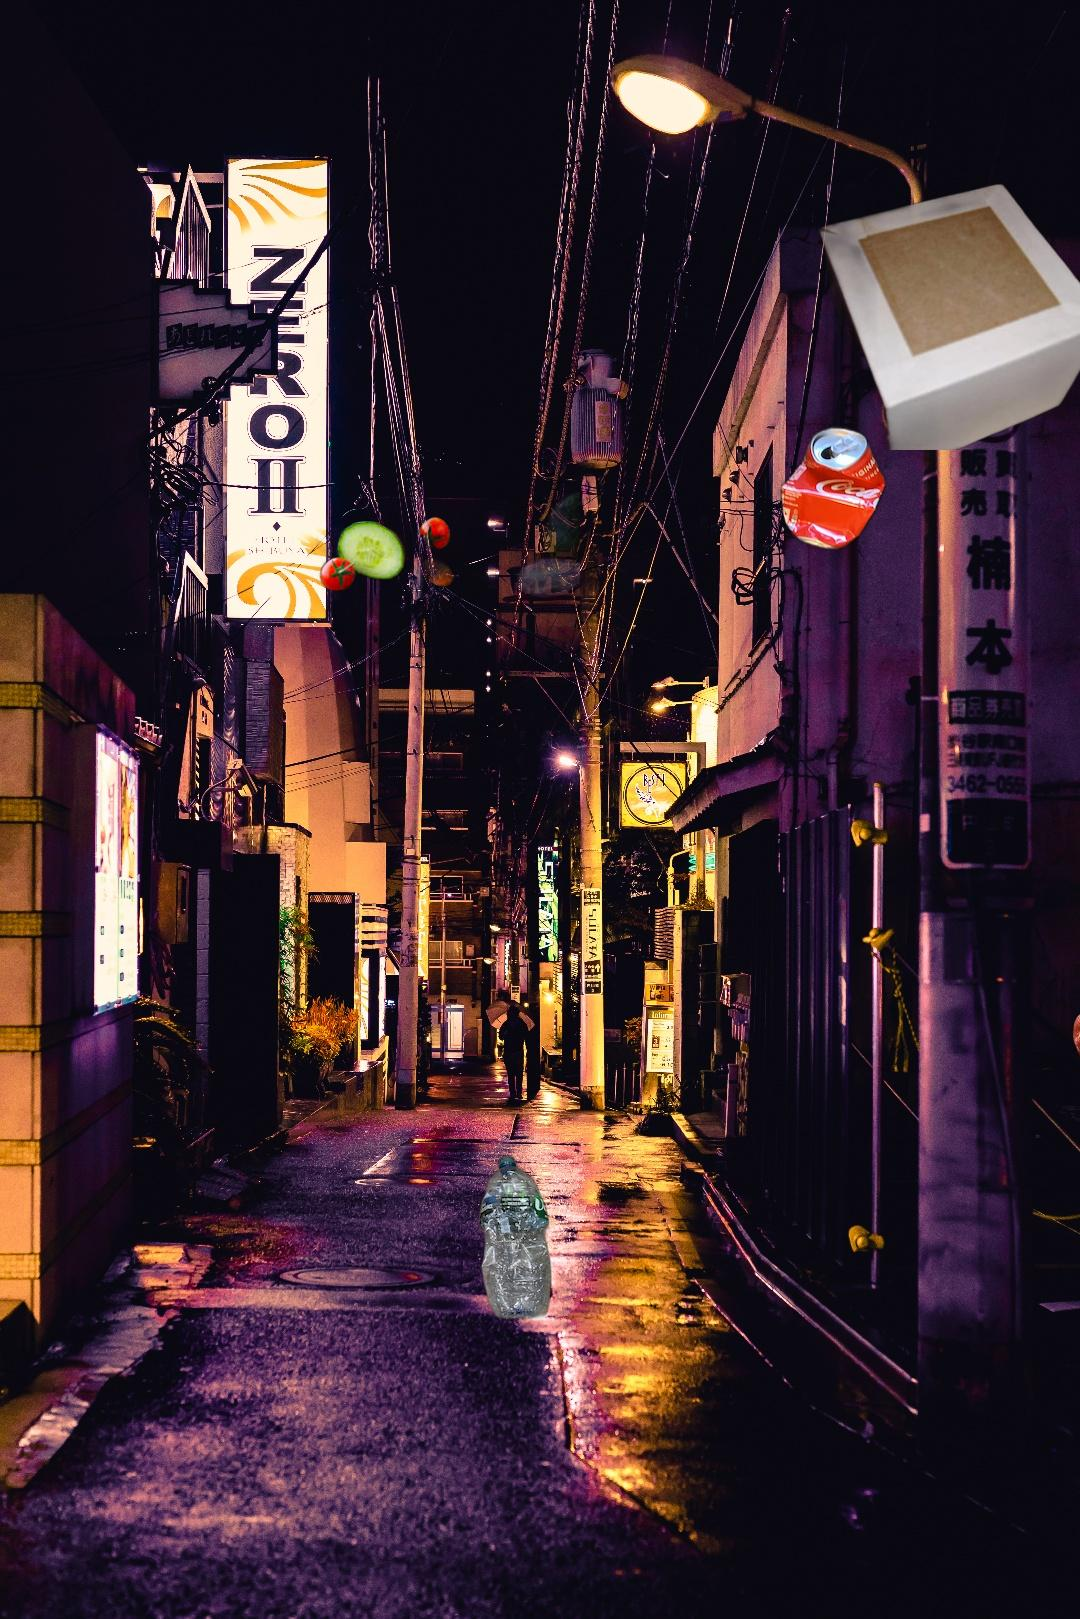biological: (316, 433, 580, 615), (981, 960, 1080, 1154)
metal-cans: (776, 421, 891, 556)
plastic-bottles: (472, 1152, 554, 1327)
trashbox-cardboard: (815, 166, 1080, 450)
